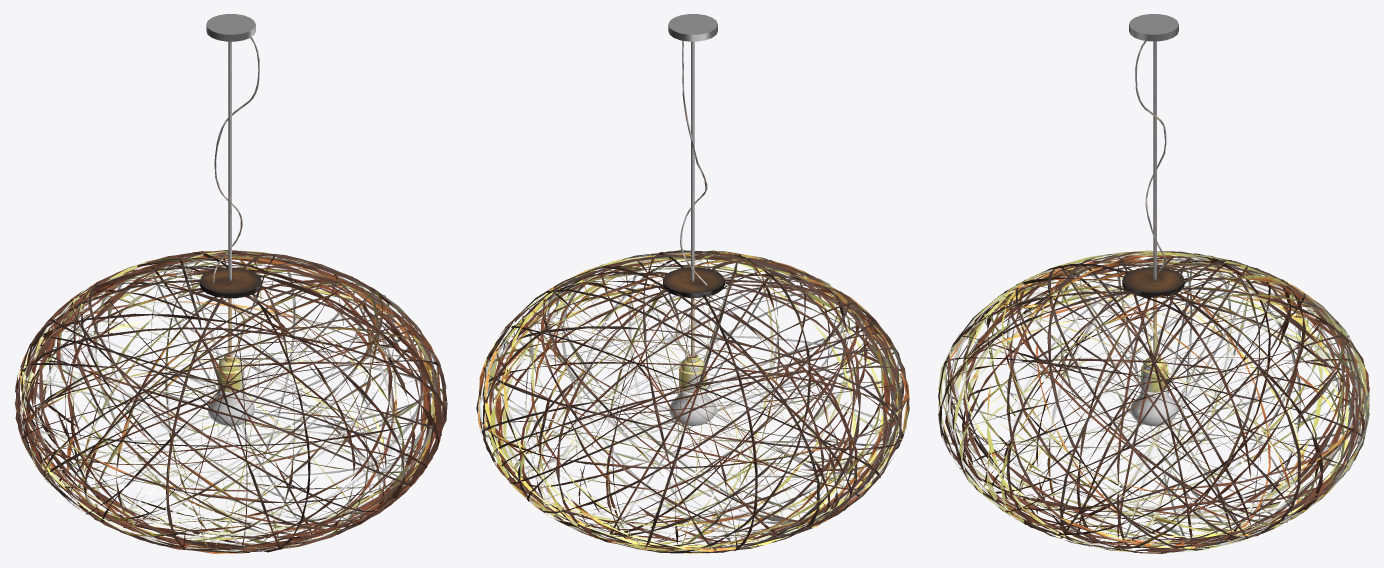
The model's file is Pendant_Lamp_e781b5b2-e1ba-543a-a18a-87b08638aa22.glb.
3 views of the same model, side by side, from view 1: azimuth 30°, elevation 25°; view 2: azimuth 150°, elevation 25°; view 3: azimuth 270°, elevation 25° (orthographic).
Visible parts, largest first — view 1: raw_model.obj; view 2: raw_model.obj; view 3: raw_model.obj.
Boxes of the visible parts, x1=… form: raw_model.obj: x1=14, y1=14, x2=447, y2=553; raw_model.obj: x1=476, y1=14, x2=909, y2=553; raw_model.obj: x1=938, y1=14, x2=1369, y2=553.
Size of the model in its own units: 0.8985 by 1.15 by 0.8987.
Materials: 1 (1 with a texture image).
